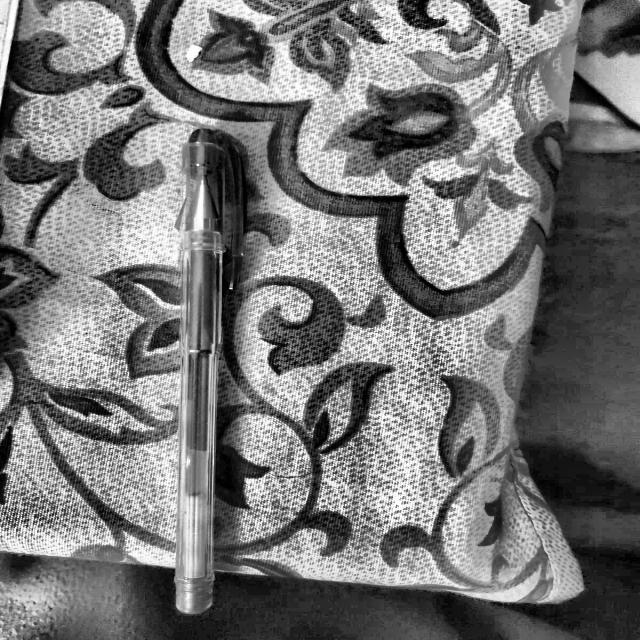Pen: (100, 100, 310, 628)
